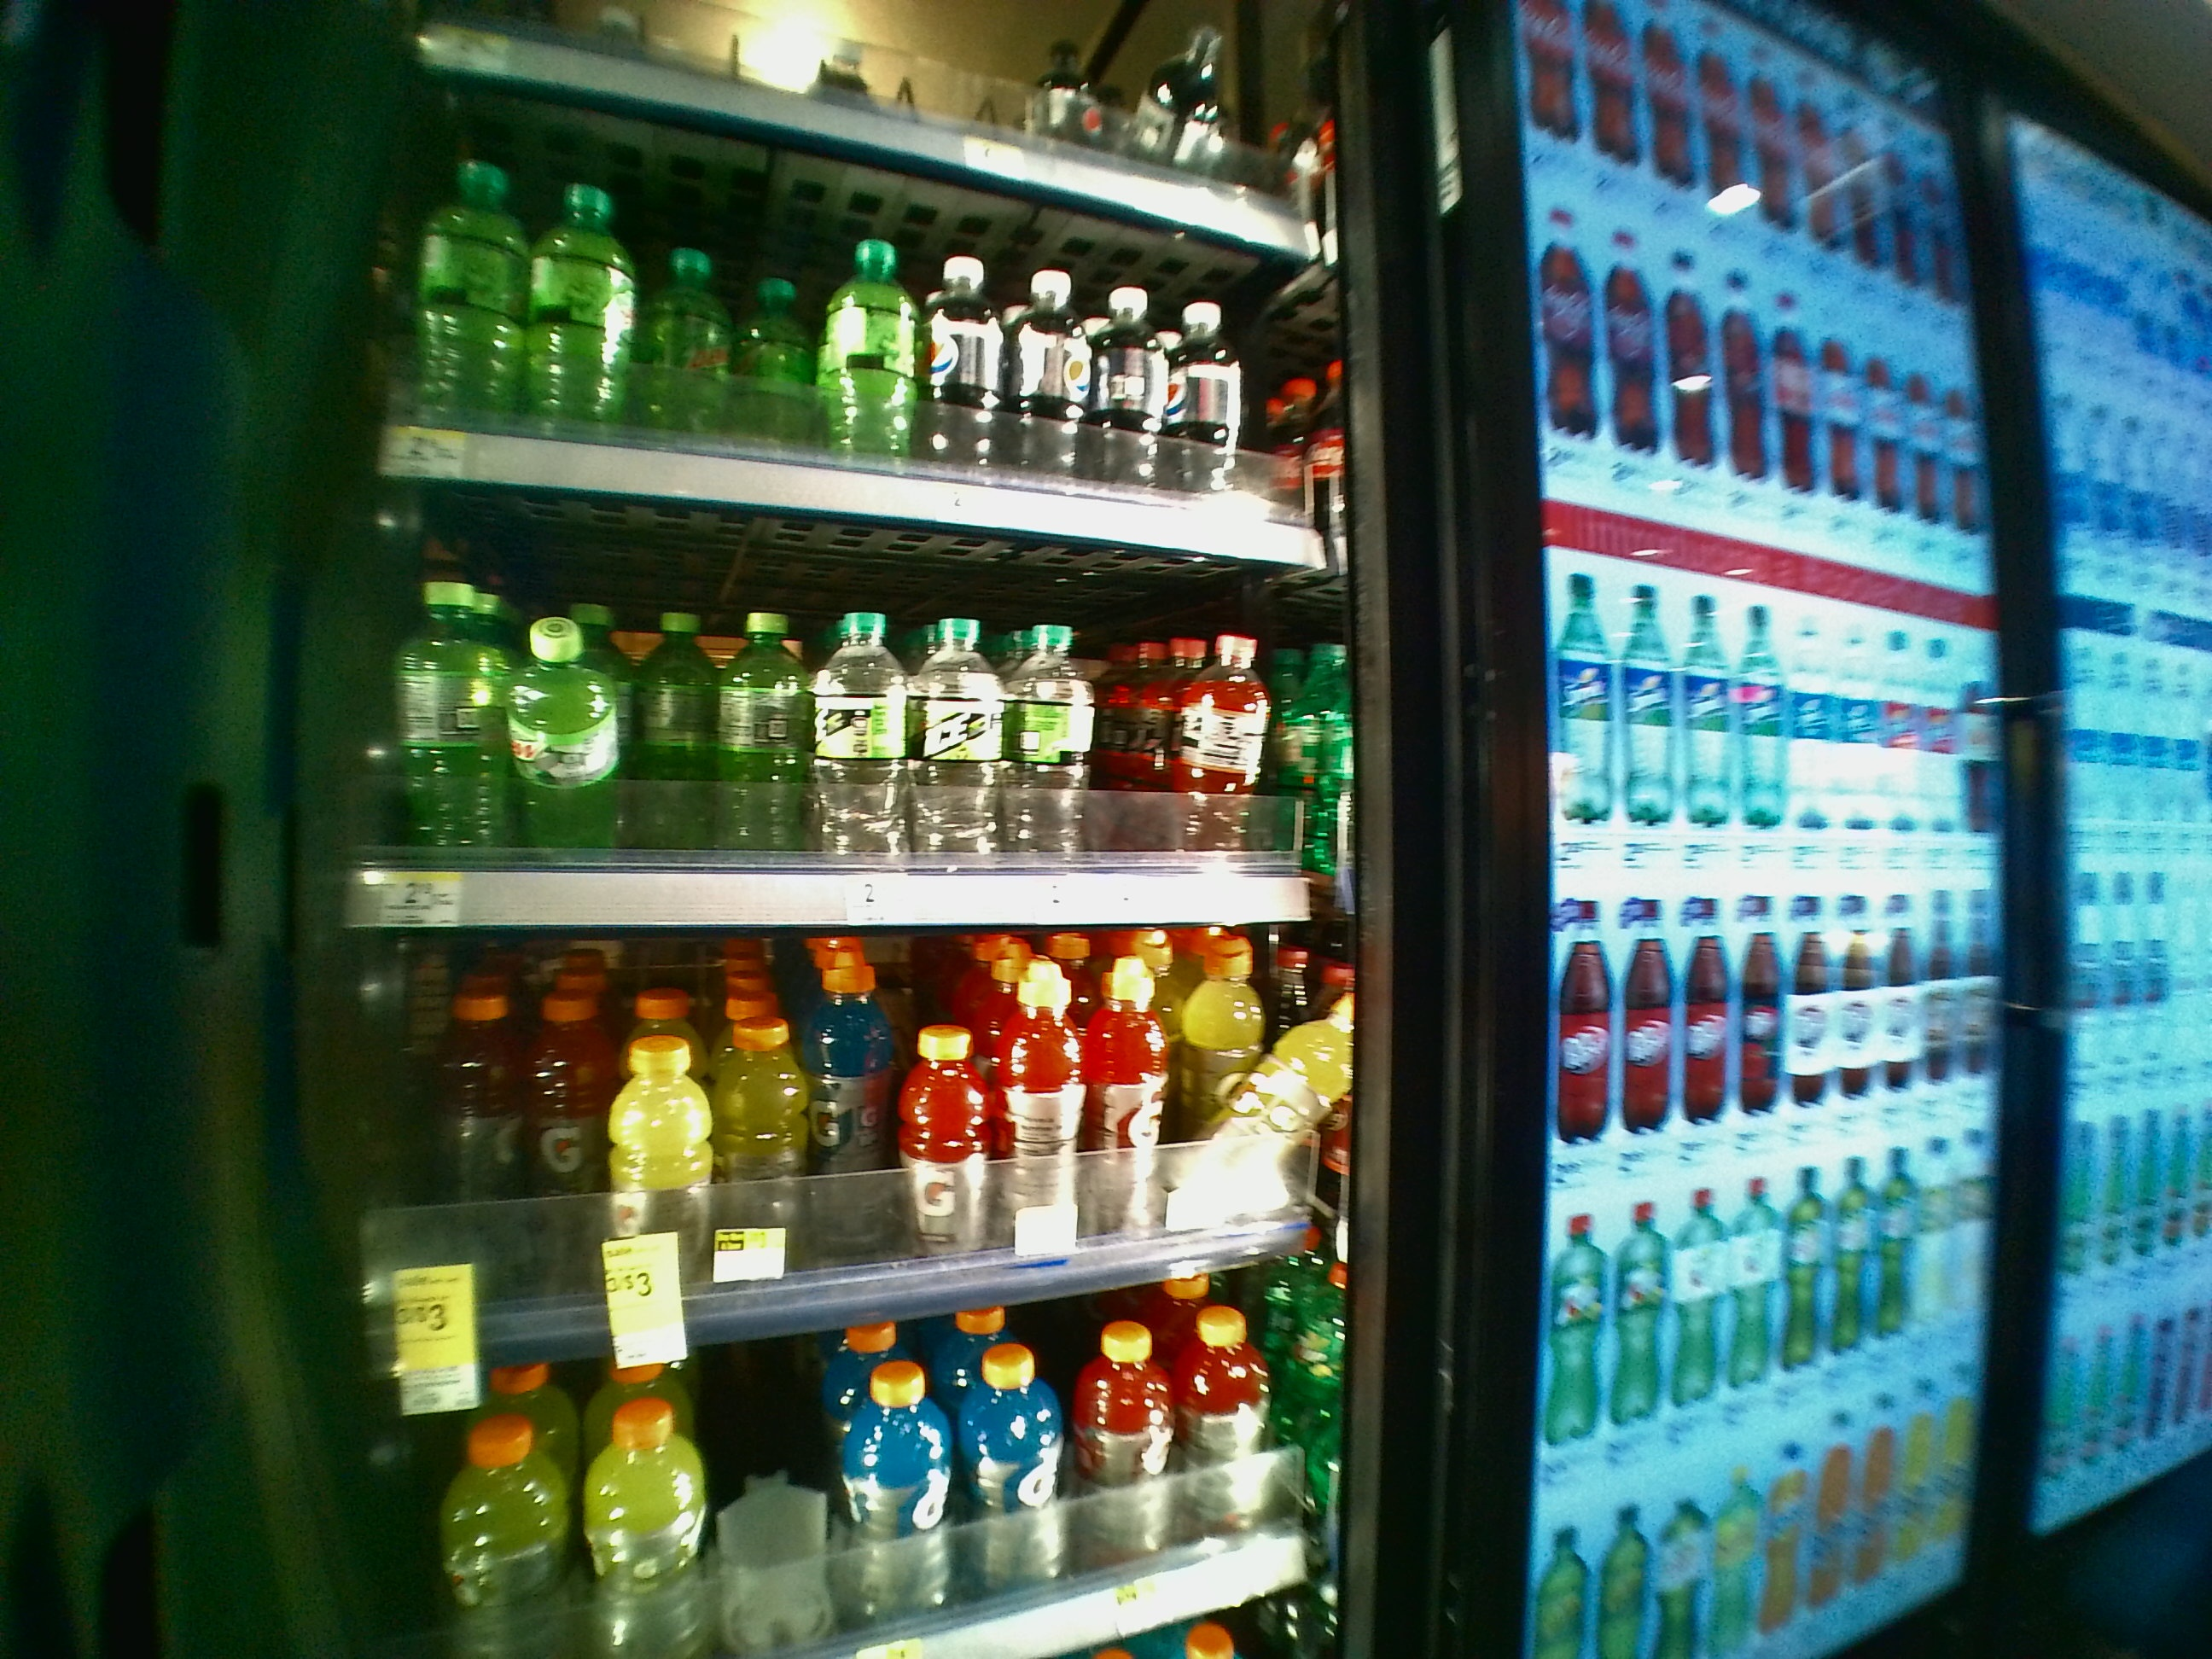shelf: (307, 474, 1364, 929)
